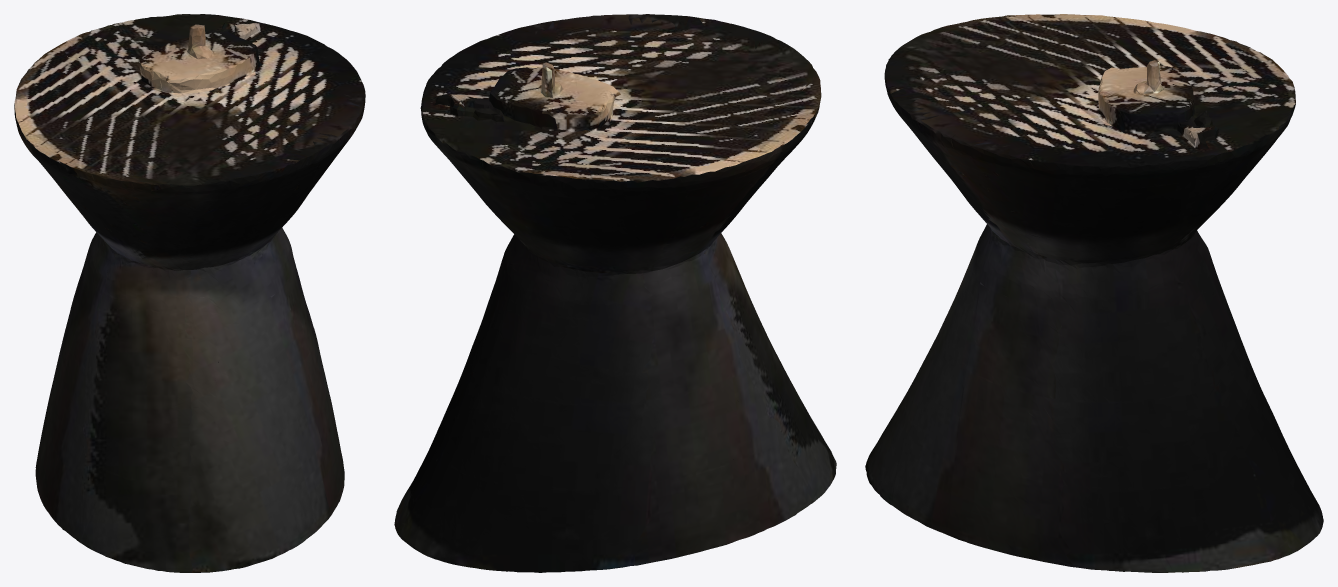
File: bedroom-1-01-nightstand.glb
3 renders of one model, left to right at view 1: azimuth 30°, elevation 25°; view 2: azimuth 150°, elevation 25°; view 3: azimuth 270°, elevation 25°, orthographic. The views are drawn at different scales.
Visible parts, largest first — view 1: geometry_0; view 2: geometry_0; view 3: geometry_0.
Boxes of the visible parts, <box> form: geometry_0: <box>14,14,365,572</box>; geometry_0: <box>394,14,836,572</box>; geometry_0: <box>865,14,1323,572</box>.
Bounding box in the file's own units: 0.3444 × 0.4425 × 0.4069.
Materials: 1 (1 with a texture image).
